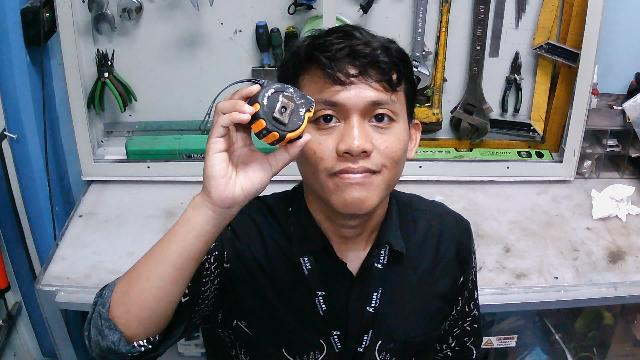meteran: (194, 75, 316, 150)
